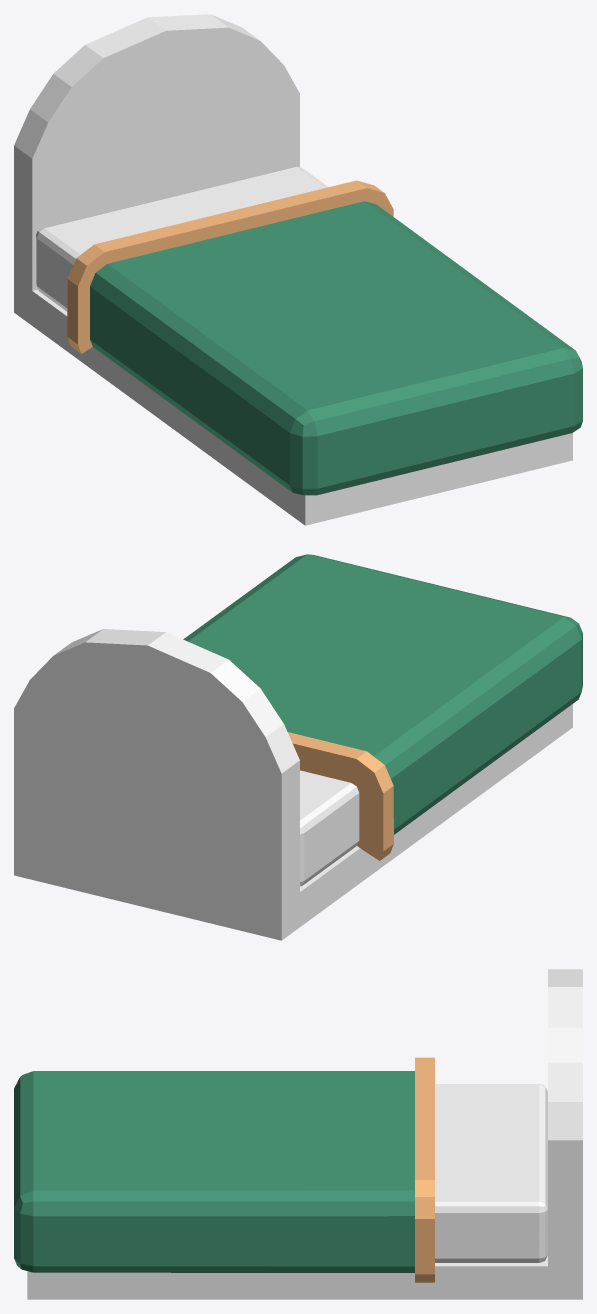
The model's file is Single Bed_5.fbx.
3 views of the same model, one above another, from view 1: azimuth 30°, elevation 25°; view 2: azimuth 150°, elevation 25°; view 3: azimuth 270°, elevation 25° (orthographic). The views are drawn at different scales.
Visible parts, largest first — view 1: Single Bed_5; view 2: Single Bed_5; view 3: Single Bed_5.
Boxes of the visible parts, box(x1,y1,x2,y2) form: Single Bed_5: box(14, 14, 582, 525); Single Bed_5: box(14, 554, 582, 940); Single Bed_5: box(14, 969, 582, 1299).
Size of the model in its own units: 1.55 by 1.23 by 2.54.
